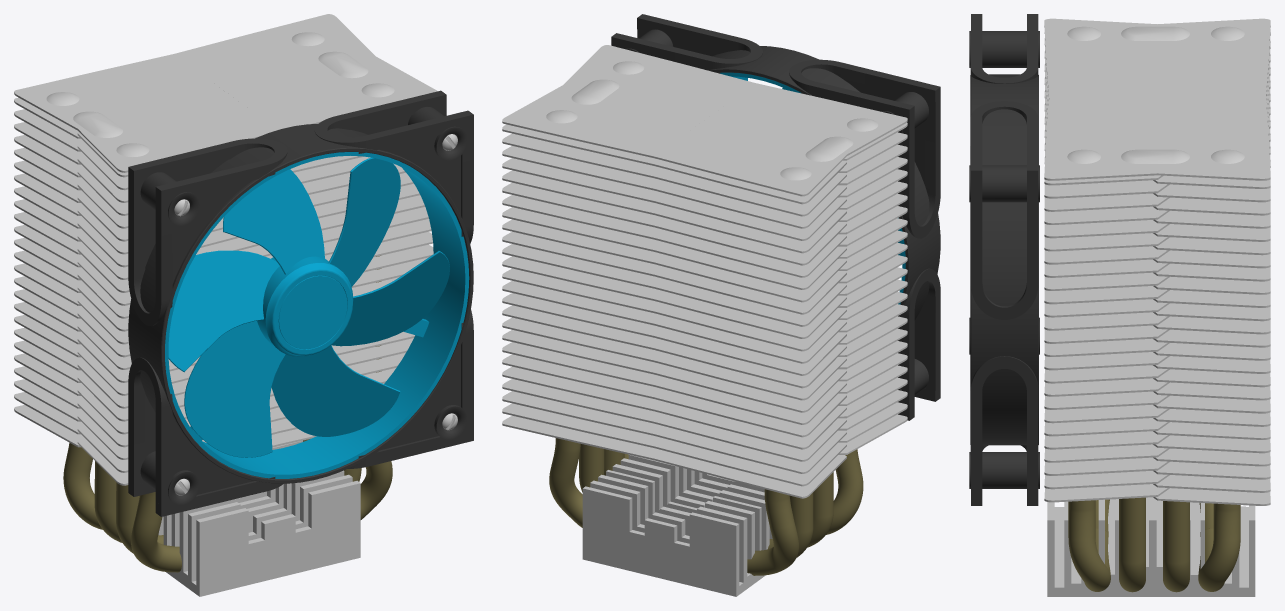
Rendered from culer.fbx.
The picture shows the model from 3 angles, left to right: view 1: azimuth 30°, elevation 25°; view 2: azimuth 150°, elevation 25°; view 3: azimuth 270°, elevation 25°; orthographic projection. The views are drawn at different scales.
Visible parts, largest first — view 1: Булев_1, Объект_Труба_2, Булев_1_2, Симметрия, Симметрия_1; view 2: Булев_1, Булев_1_2, Симметрия; view 3: Булев_1, Булев_1_2, Симметрия.
Part boxes in pixels (box(x1,y1,x2,y2)): Булев_1: box(14, 14, 437, 596); Объект_Труба_2: box(165, 152, 469, 478); Булев_1_2: box(128, 90, 473, 516); Симметрия: box(63, 255, 392, 572); Симметрия_1: box(174, 134, 457, 495); Булев_1: box(502, 45, 907, 596); Булев_1_2: box(611, 14, 940, 420); Симметрия: box(549, 438, 863, 575); Булев_1: box(1044, 18, 1270, 596); Булев_1_2: box(969, 14, 1039, 505); Симметрия: box(1068, 497, 1240, 592).
Size of the model in its own units: 364 by 497 by 290.
